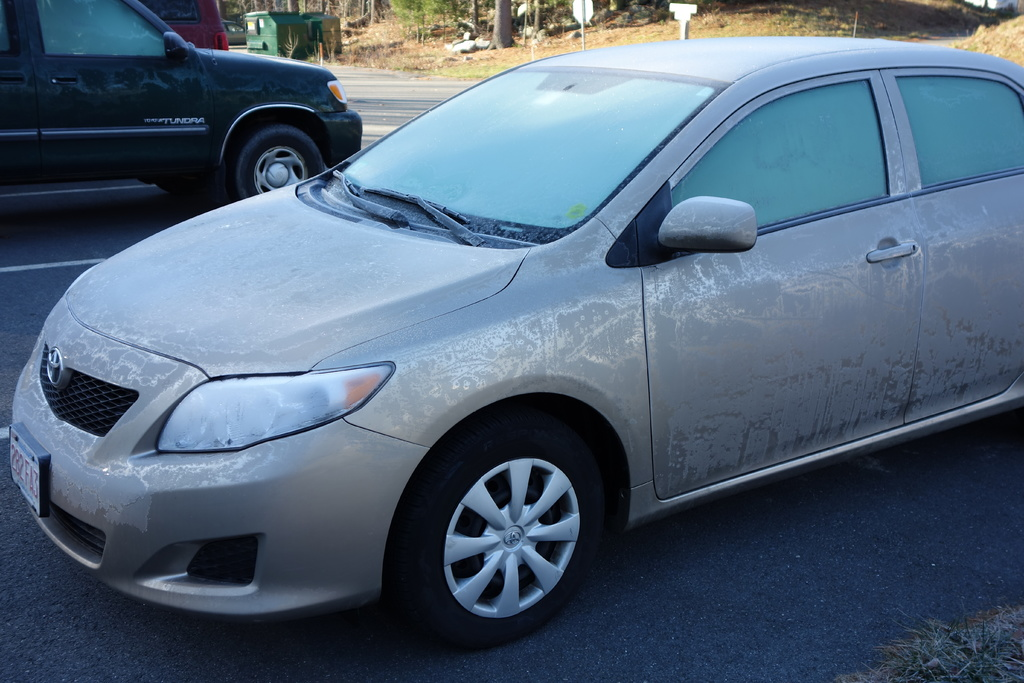Car: (0, 0, 1024, 650), (0, 0, 362, 207)
